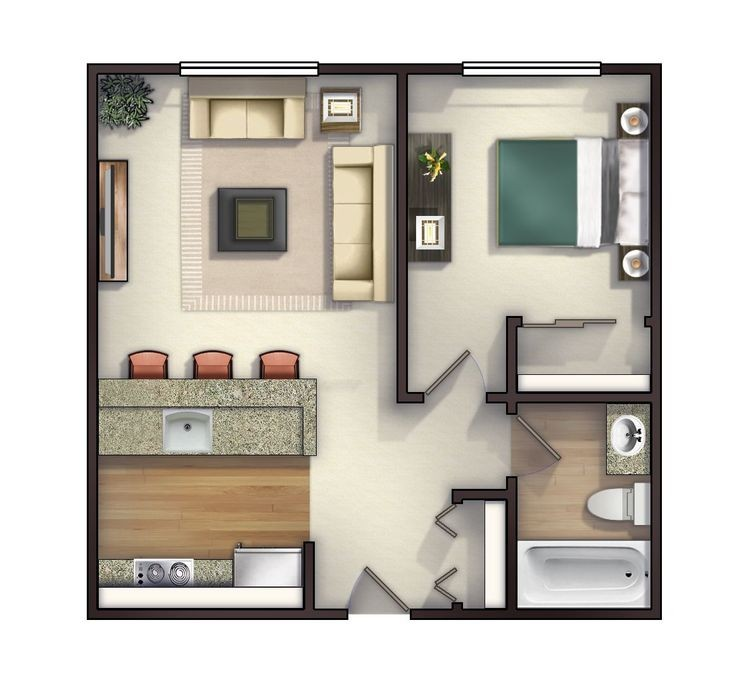door: (428, 330, 497, 402)
room: (78, 43, 414, 415), (70, 389, 528, 618), (393, 54, 661, 403), (493, 393, 674, 627)
wall: (640, 68, 667, 620), (85, 55, 104, 617), (390, 62, 409, 394), (407, 600, 658, 621), (90, 603, 351, 620), (501, 470, 531, 609), (491, 391, 653, 412), (501, 315, 528, 420), (79, 56, 178, 81), (321, 63, 459, 80), (606, 54, 666, 80), (443, 488, 513, 507)
window: (176, 55, 319, 83)
